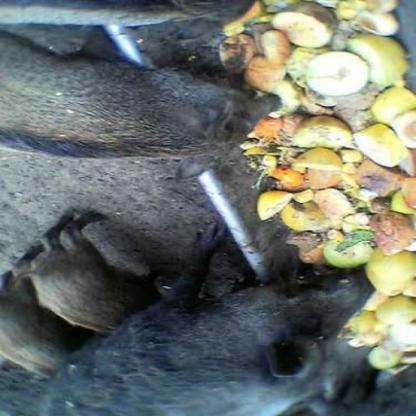boar: (67, 238, 408, 416), (0, 35, 285, 218)
